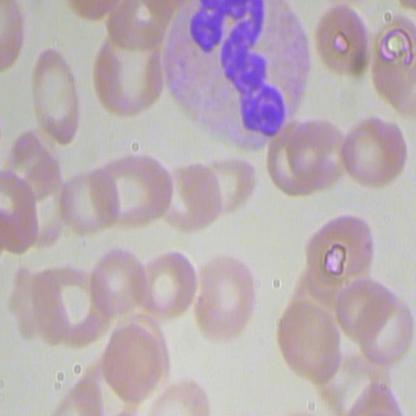RBC: (272, 287, 349, 381), (298, 205, 374, 300), (105, 141, 176, 231), (339, 106, 409, 194), (187, 254, 256, 342), (29, 42, 85, 150), (284, 103, 345, 193), (160, 148, 223, 232), (198, 154, 263, 234), (87, 242, 151, 322), (103, 321, 167, 400), (139, 244, 196, 316), (1, 169, 46, 257)
WBC: (159, 1, 314, 154)
